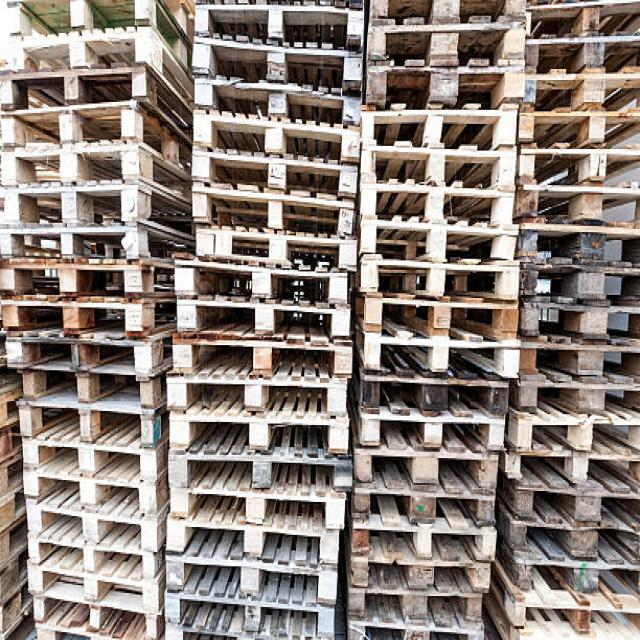Wooden-Pallets: (184, 101, 363, 166), (174, 252, 350, 306), (164, 551, 336, 606), (356, 251, 518, 305), (0, 104, 164, 157), (15, 392, 158, 452), (356, 361, 509, 415), (165, 451, 354, 494), (362, 100, 517, 151), (23, 533, 158, 589), (345, 518, 496, 566), (504, 582, 640, 632), (0, 223, 151, 265), (513, 412, 640, 459), (515, 181, 640, 225), (524, 29, 640, 74)
